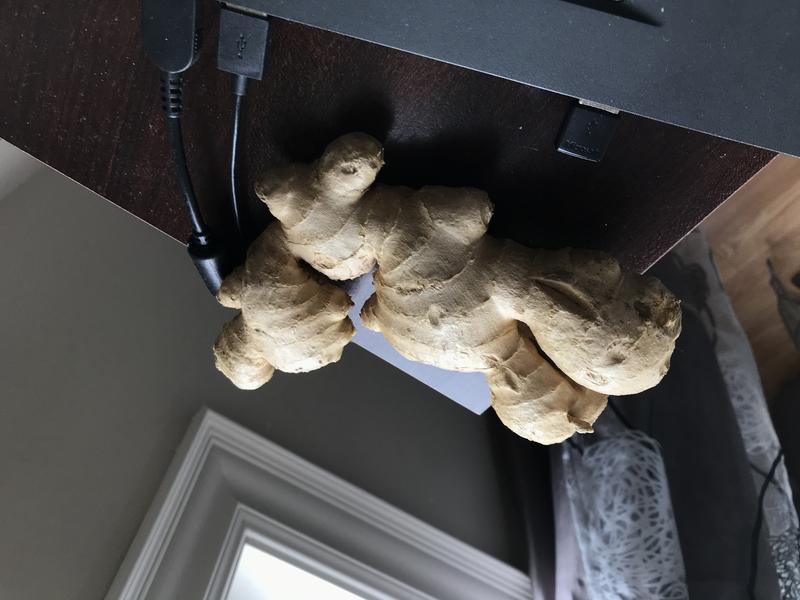ginger: (192, 129, 695, 462)
